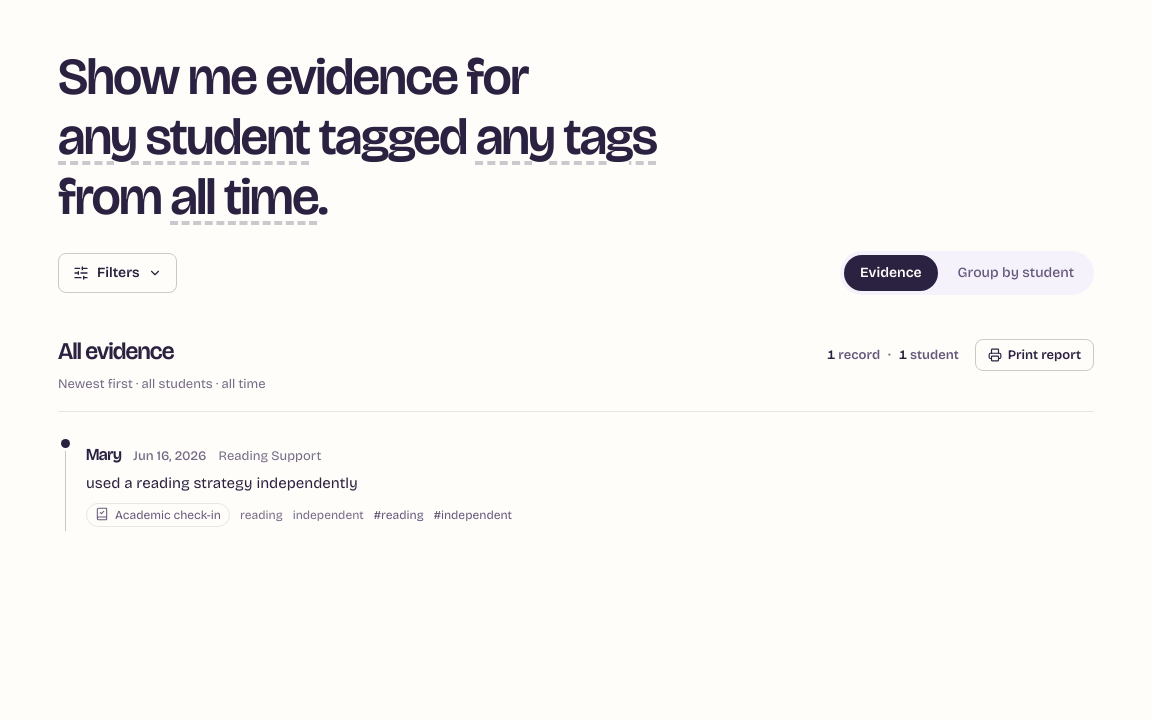
ExploreEvidencePage › treats an unchanged Photo field as unconstrained
Click the button "Filters" at (117, 273), box [58,253,177,293]
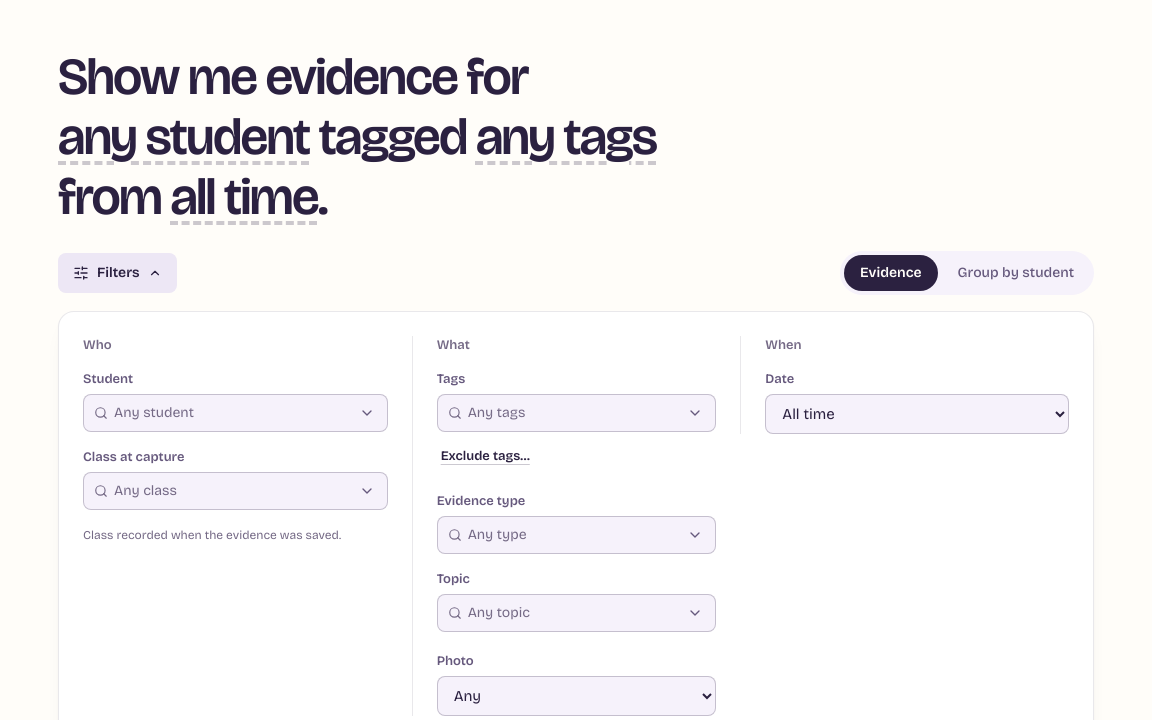
Select "With a photo" in the dropdown labelled "Photo" at (577, 696), box [437,676,716,716]
(page scrolled)
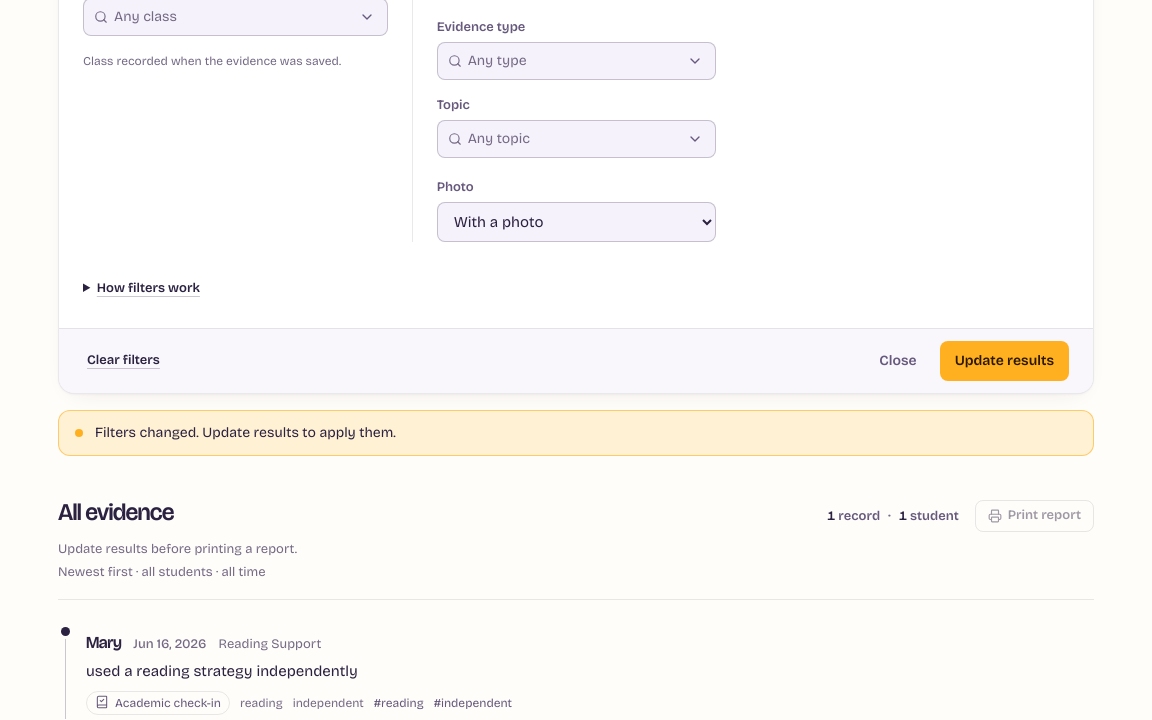
Click the button "Update results" at (1004, 360), box [940,340,1069,380]
(page scrolled)
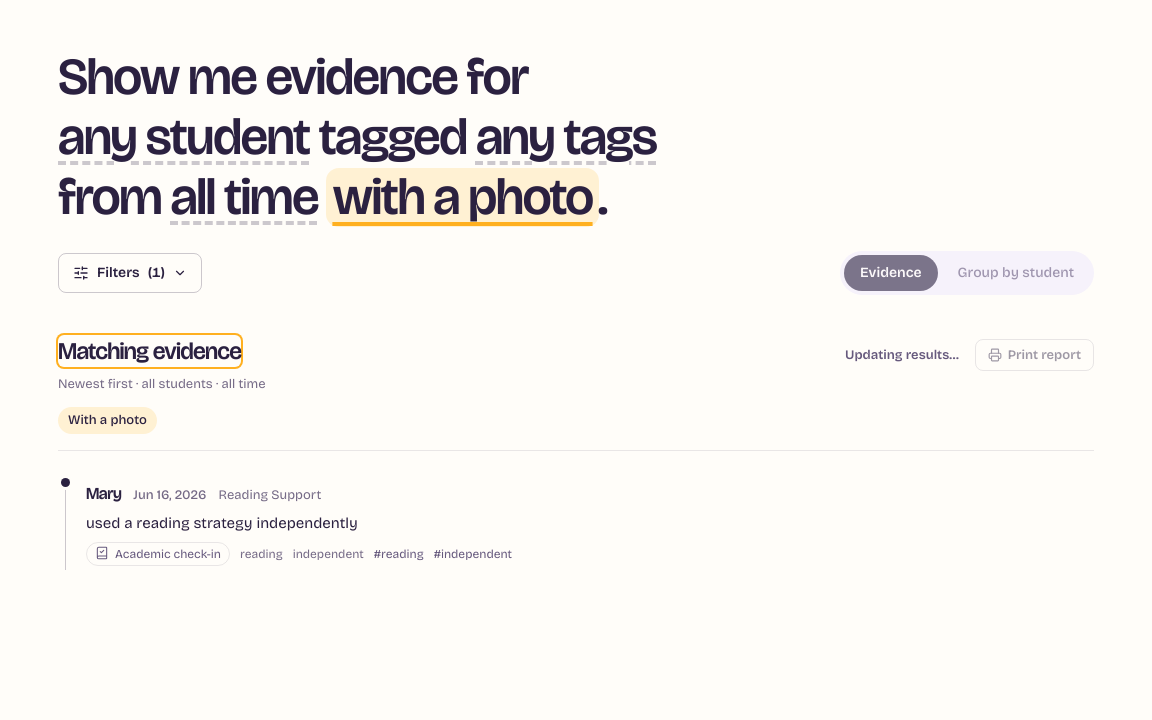
Click the button "Filters (1)" at (130, 273), box [58,253,202,293]
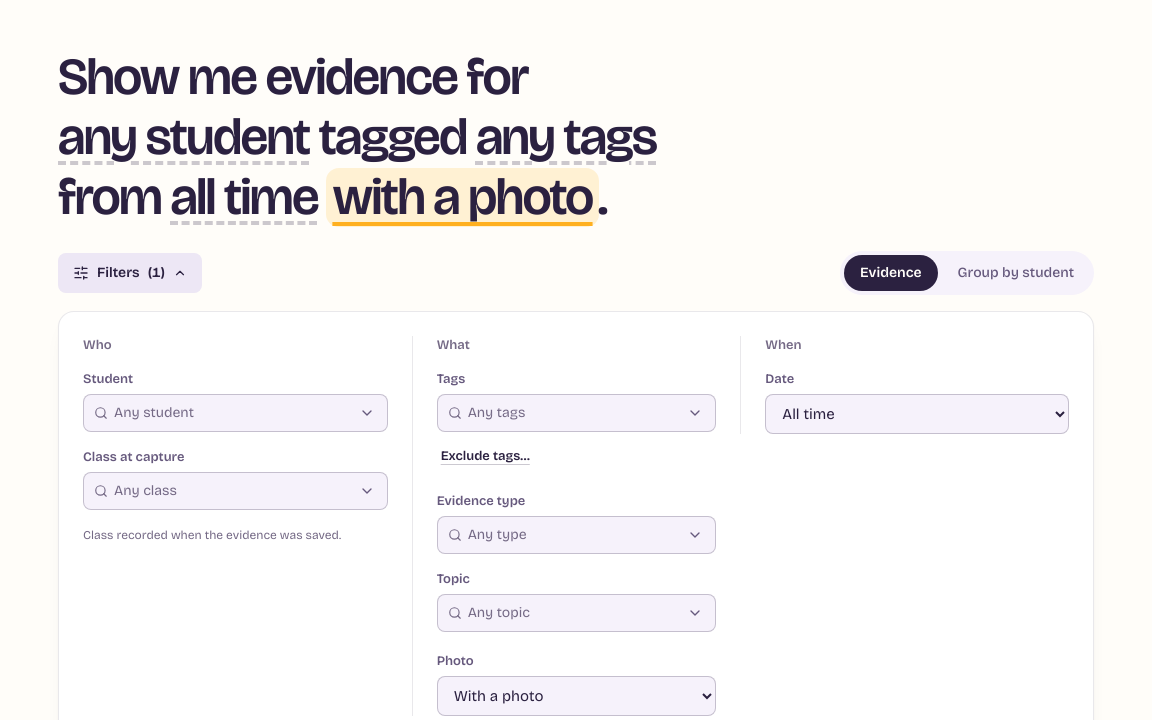
Select "Any" in the dropdown labelled "Photo" at (577, 696), box [437,676,716,716]
(page scrolled)
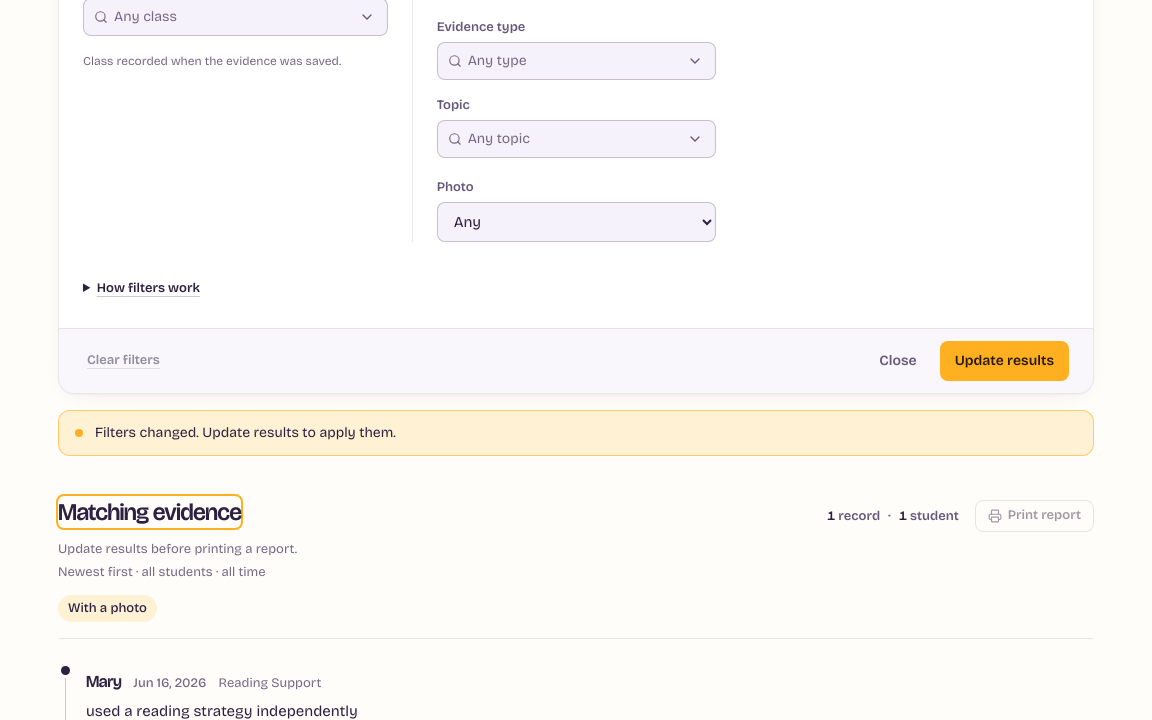
expect the button "Update results" is shown: met, box [940,340,1069,380]
